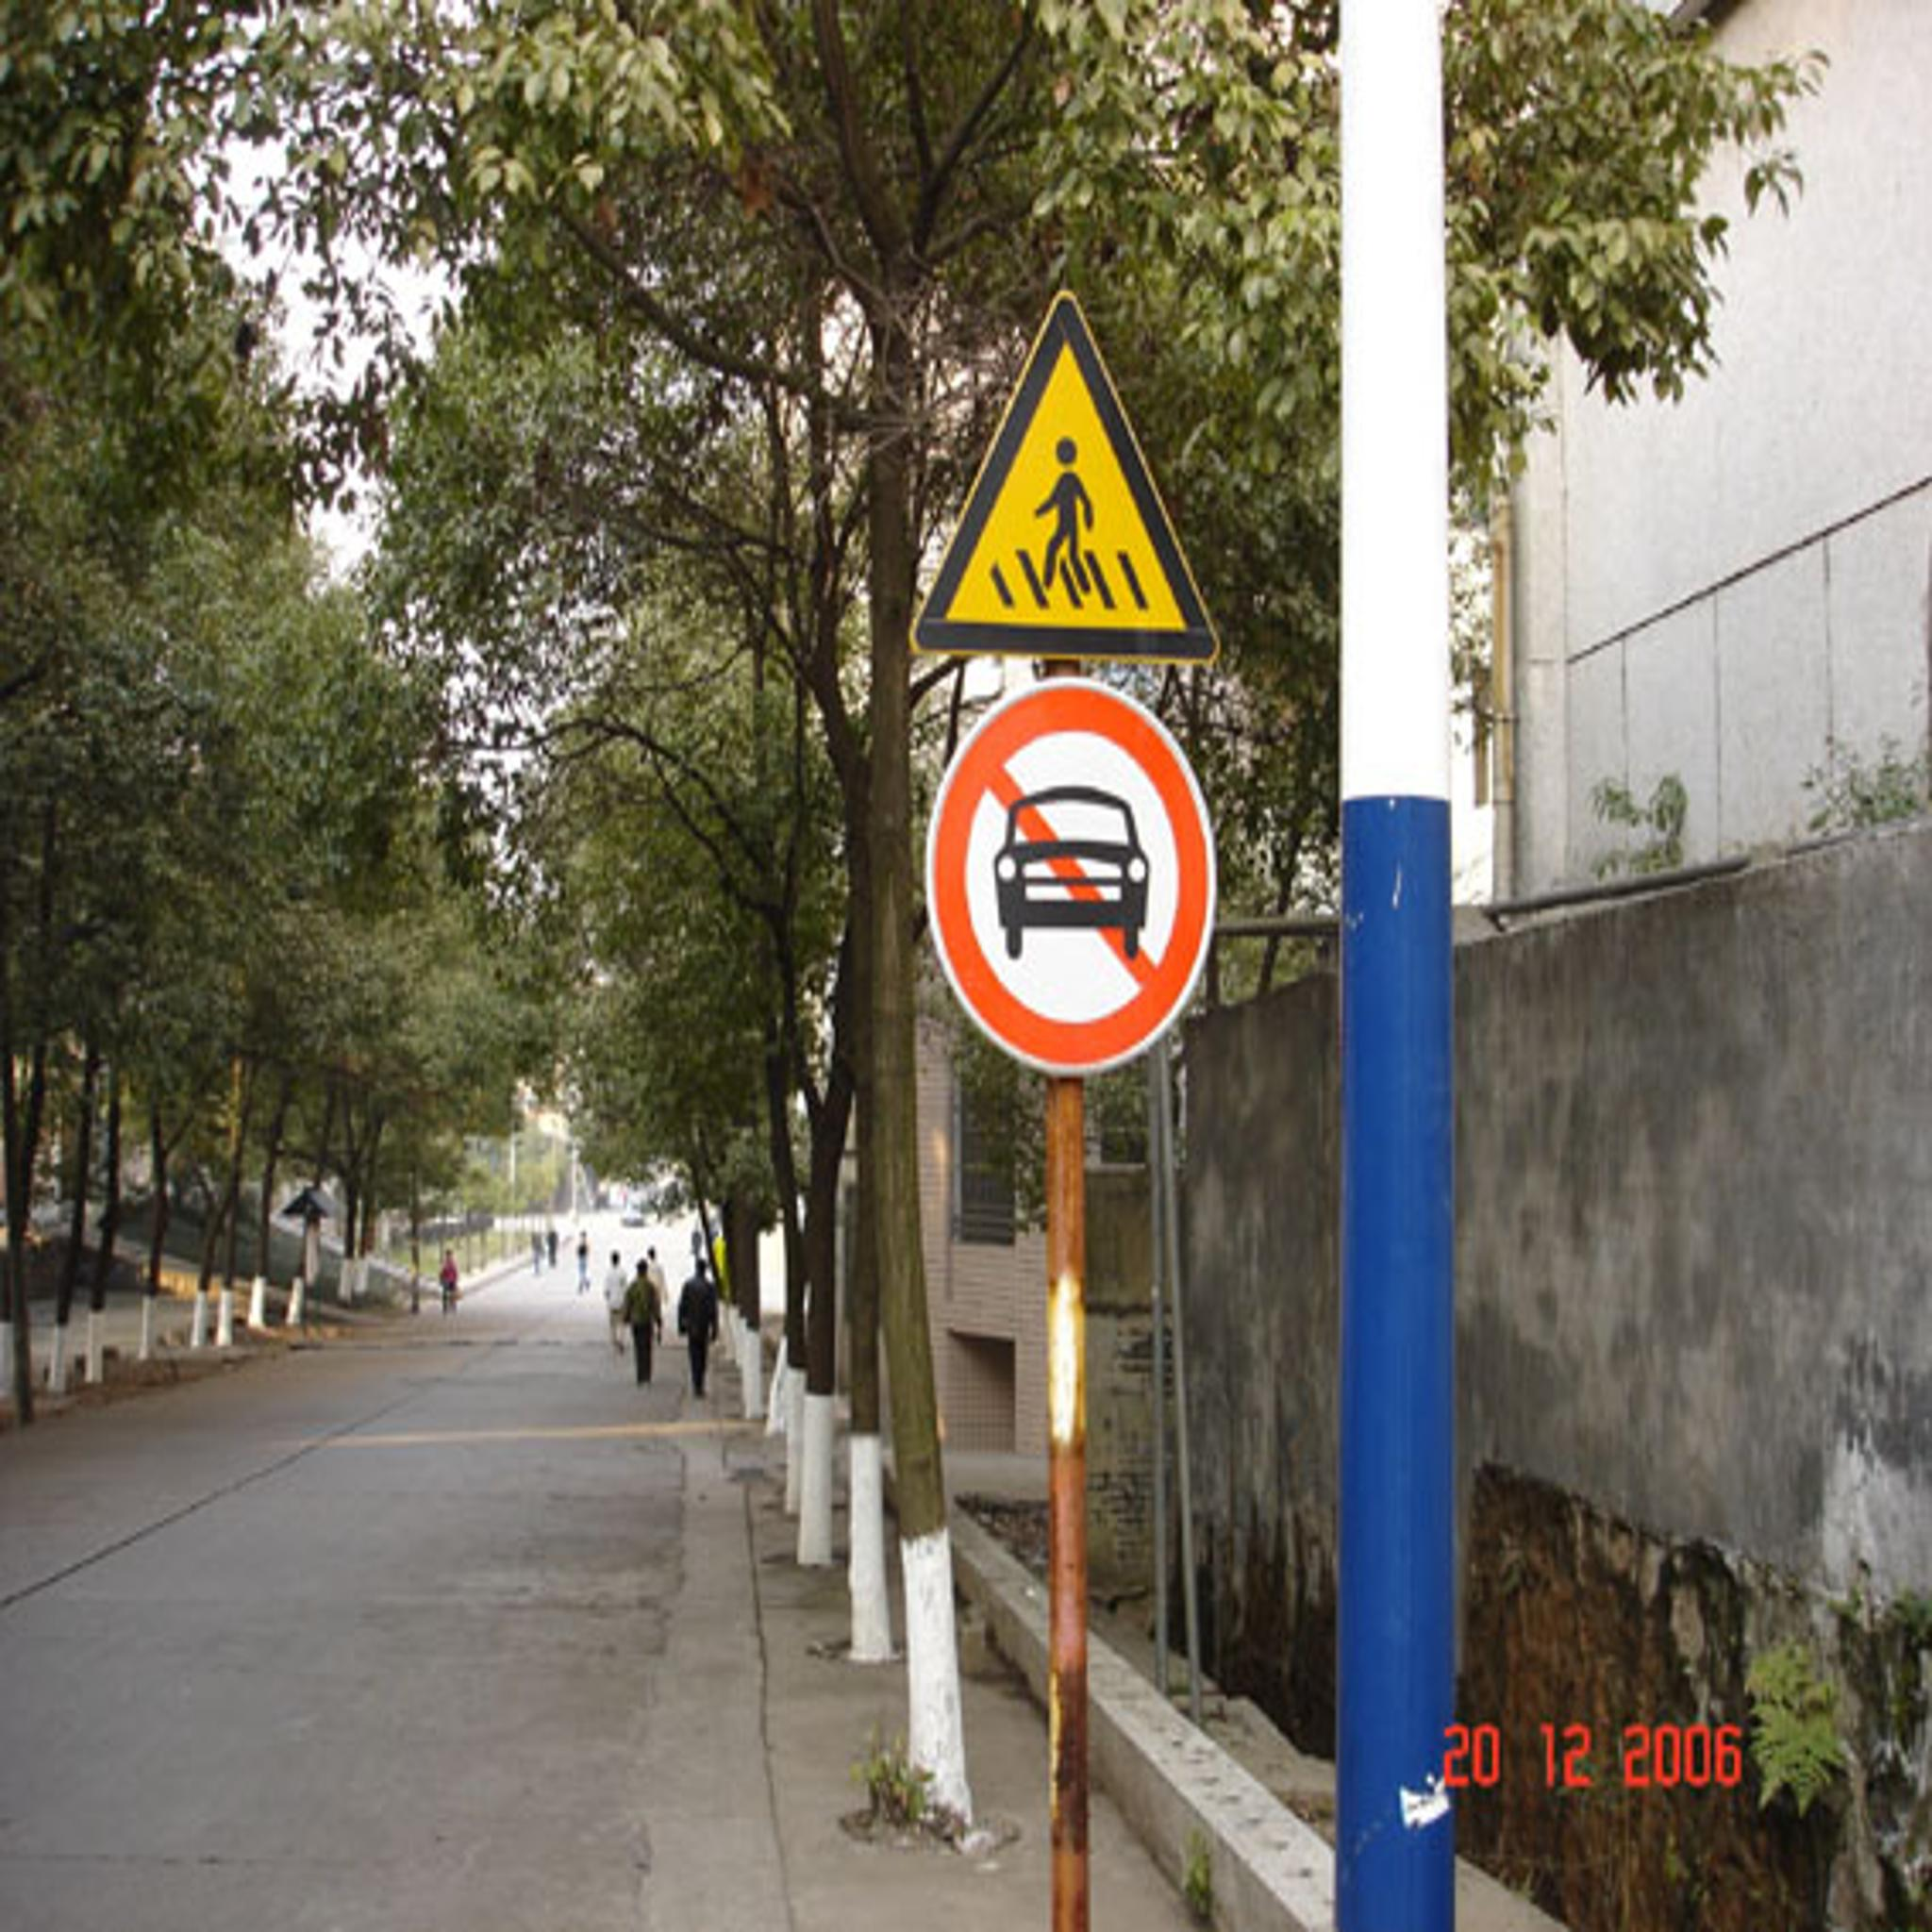p10: (929, 678, 1214, 1076)
w57: (916, 290, 1217, 667)
